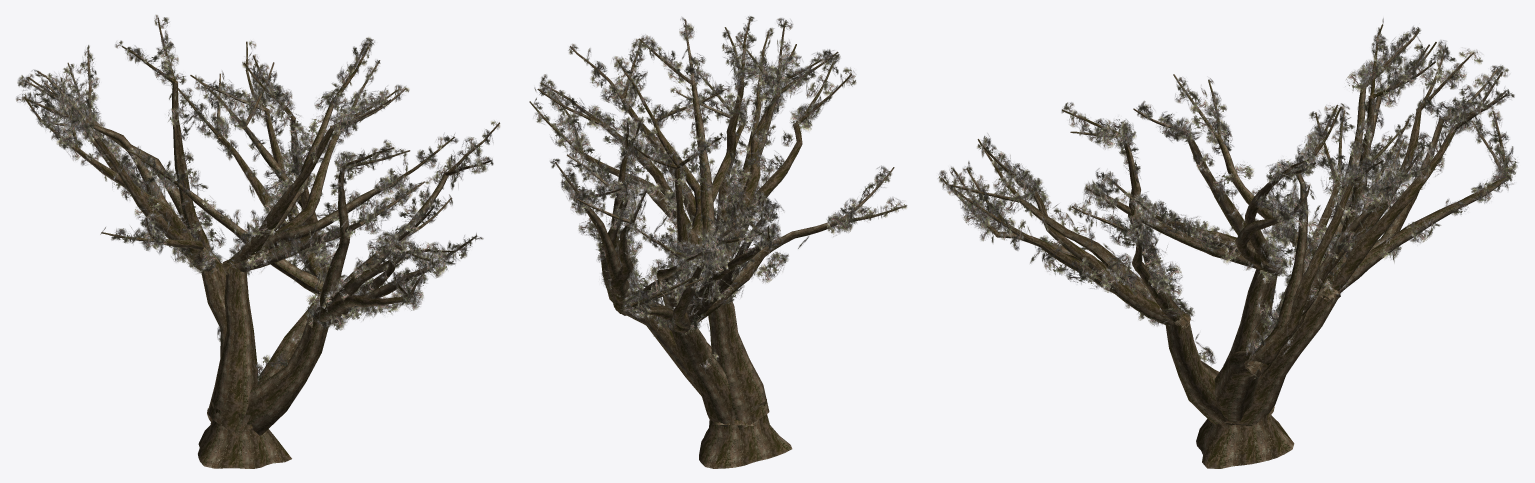
The model's file is blossom_3x_4.glb.
3 renders of one model, left to right at view 1: azimuth 30°, elevation 25°; view 2: azimuth 150°, elevation 25°; view 3: azimuth 270°, elevation 25°, orthographic. The views are drawn at different scales.
Parts seen in each view (by area): view 1: blossom; view 2: blossom; view 3: blossom.
Boxes of the visible parts, bbox=[...] form: blossom: bbox=[16, 14, 500, 468]; blossom: bbox=[529, 16, 907, 468]; blossom: bbox=[938, 18, 1518, 468].
Bounding box in the file's own units: 51.29 × 50.72 × 66.06.
2 materials, 2 textured.
